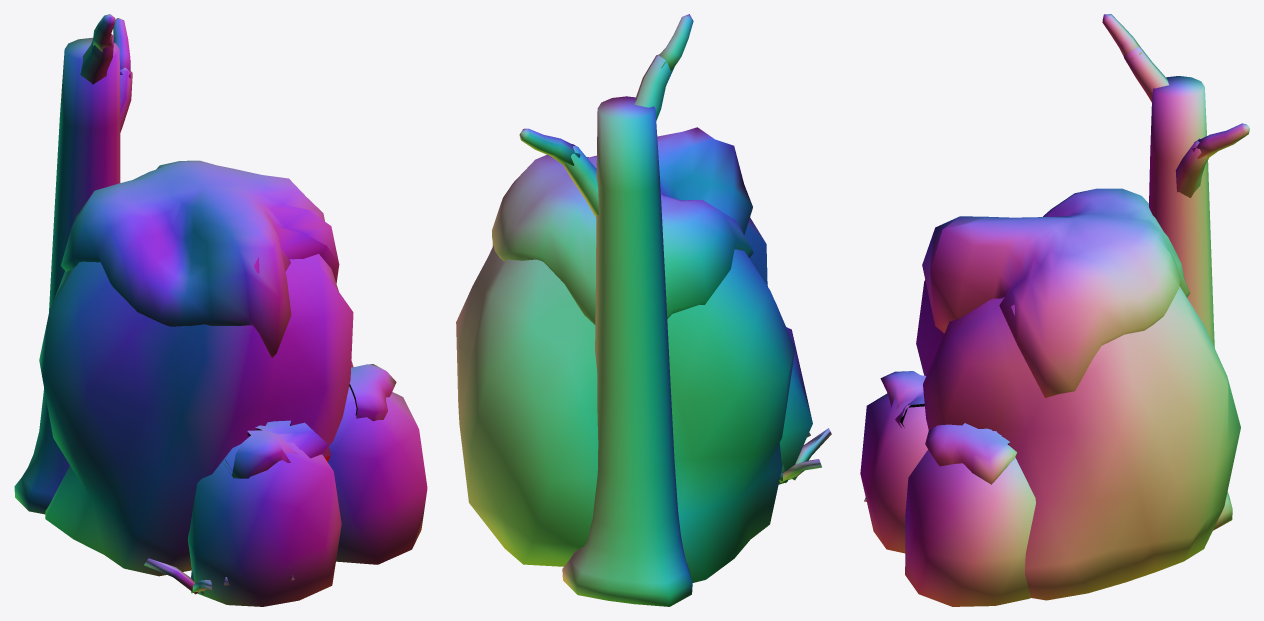
Rendered from SM_Outcrop_March_V5.fbx.
The picture shows the model from 3 angles, left to right: view 1: azimuth 30°, elevation 25°; view 2: azimuth 150°, elevation 25°; view 3: azimuth 270°, elevation 25°; orthographic projection. The views are drawn at different scales.
Parts seen in each view (by area): view 1: SM_Outcrop_March_V5; view 2: SM_Outcrop_March_V5; view 3: SM_Outcrop_March_V5.
Boxes of the visible parts, box(x1,y1,x2,y2) form: SM_Outcrop_March_V5: box(14, 14, 427, 606); SM_Outcrop_March_V5: box(456, 14, 831, 606); SM_Outcrop_March_V5: box(860, 14, 1249, 606).
Bounding box in the file's own units: 1.48 × 2.25 × 1.63.
